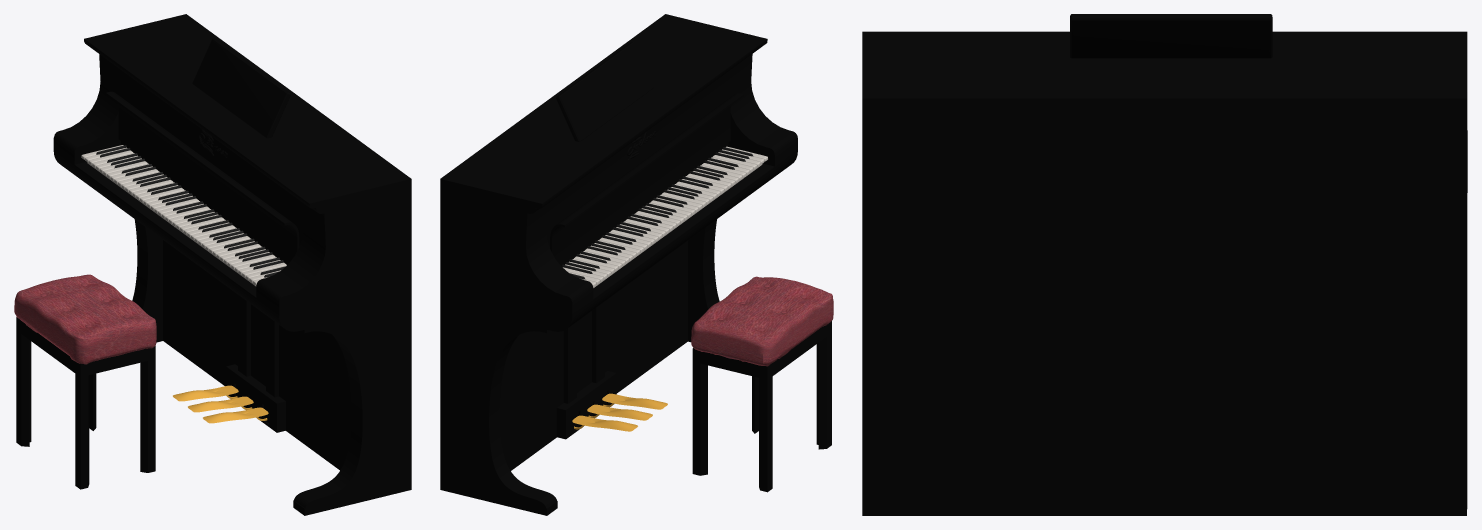
3 views of the same model, side by side, from view 1: azimuth 30°, elevation 25°; view 2: azimuth 150°, elevation 25°; view 3: azimuth 270°, elevation 25° (orthographic). The views are drawn at different scales.
Visible parts, largest first — view 1: piano_&_stall; view 2: piano_&_stall; view 3: piano_&_stall.
Boxes of the visible parts, x1,y1,x2,y2 form: piano_&_stall: (14,14,411,515); piano_&_stall: (440,14,833,515); piano_&_stall: (862,14,1467,515).
Bounding box in the file's own units: 90.59 × 121 × 140.
5 materials, 1 textured.
